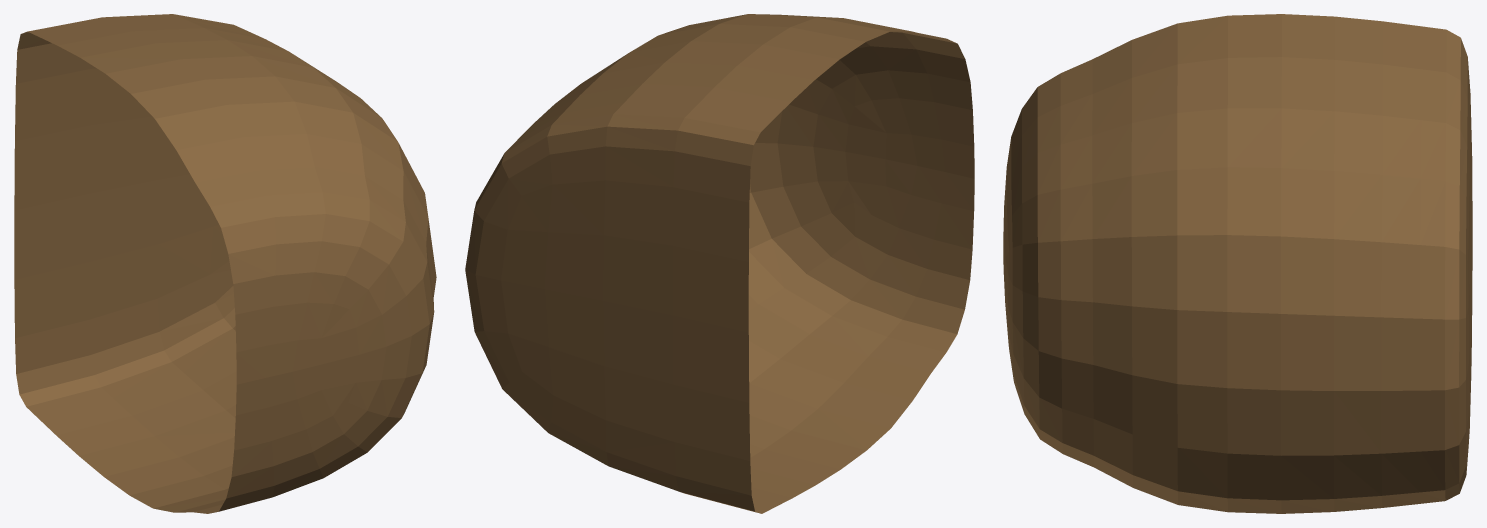
File: RHsegment_joint_visu.dae
3 views of the same model, side by side, from view 1: azimuth 30°, elevation 25°; view 2: azimuth 150°, elevation 25°; view 3: azimuth 270°, elevation 25° (orthographic). The views are drawn at different scales.
Parts seen in each view (by area): view 1: node; view 2: node; view 3: node.
Part boxes in pixels (bbox=[...]): node: bbox=[14, 14, 436, 513]; node: bbox=[465, 14, 974, 513]; node: bbox=[1003, 14, 1472, 513].
Bounding box in the file's own units: 0.0957 × 0.125 × 0.125.
